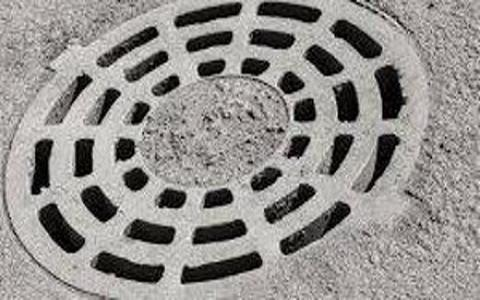proper manhole: (5, 1, 435, 293)
